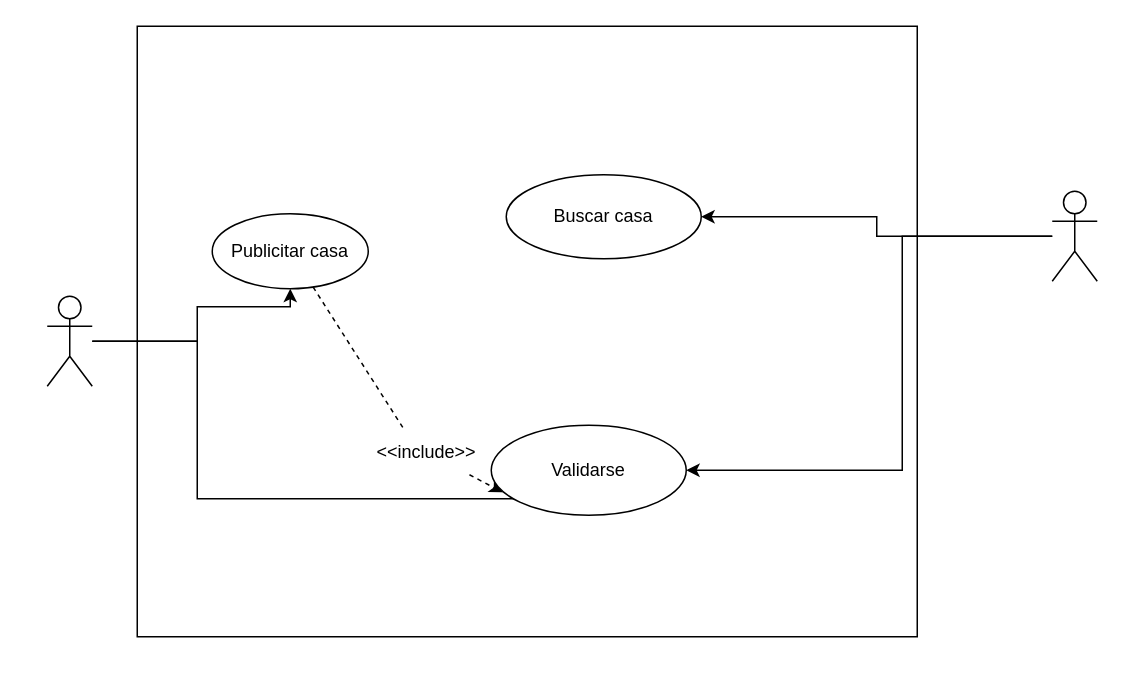
The diagram is 1134 pixels wide and 675 high, and some of its shapes have lost their labels. The shapes that lost their labels are listed below. From the top down, each one's box as (x1, y1, x2, y2) in pixels, then its label:
(1051, 190, 1097, 281): Inquilino
(46, 295, 92, 386): Propietario
